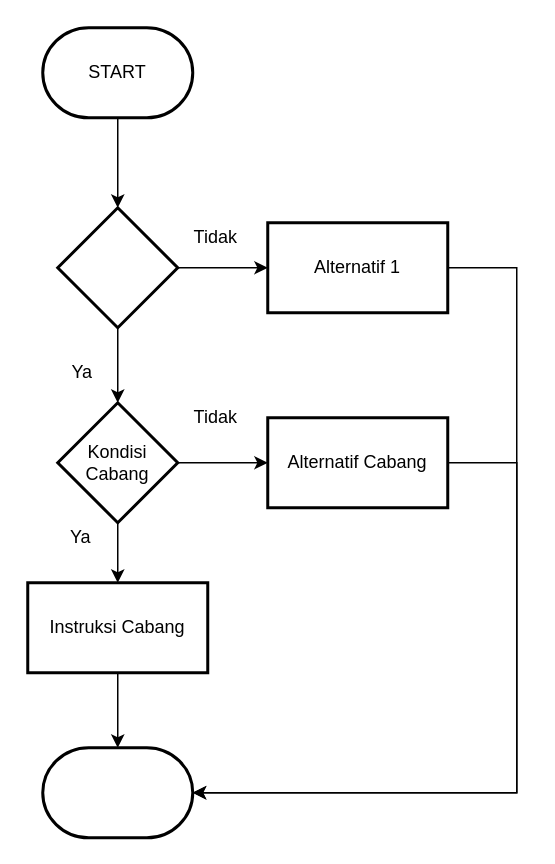
This 555x864 diagram has some shape labels left out. The box of each missing label's shape, as (x1, y1, x2, y2) in pixels:
END: (40, 746, 194, 838)
Kondisi 1: (56, 206, 178, 328)
